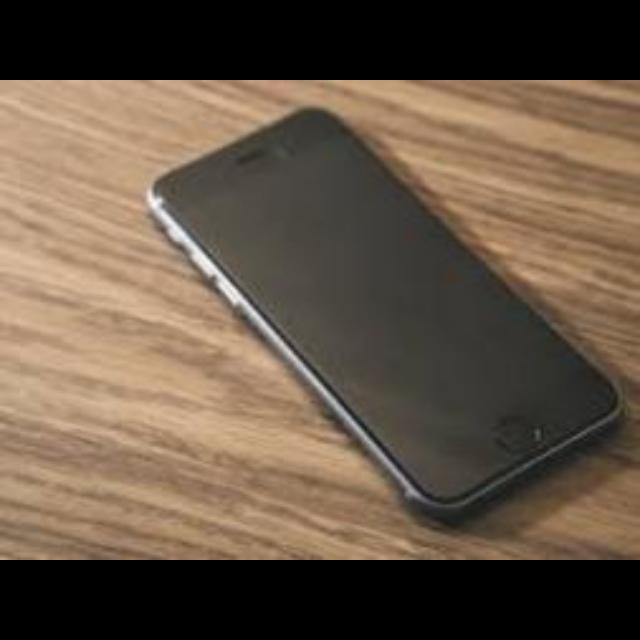PhoneUse: (152, 106, 628, 520)
